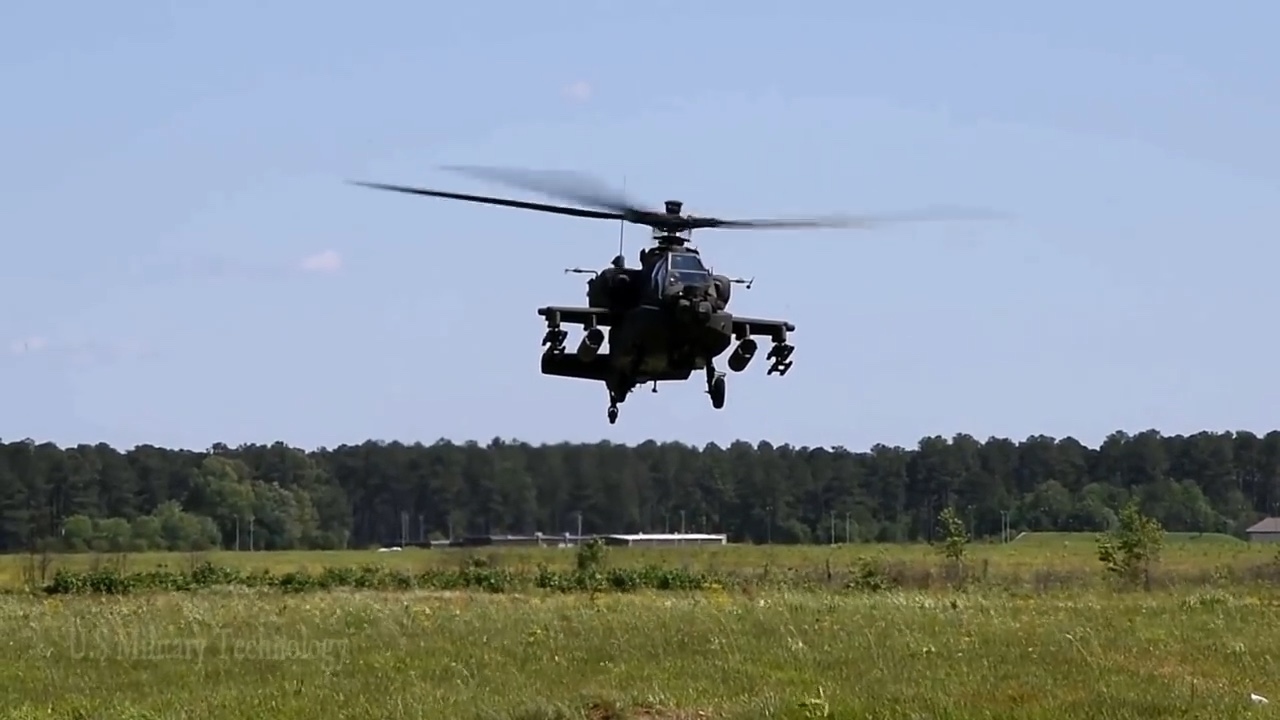ah64: (344, 166, 1018, 427)
